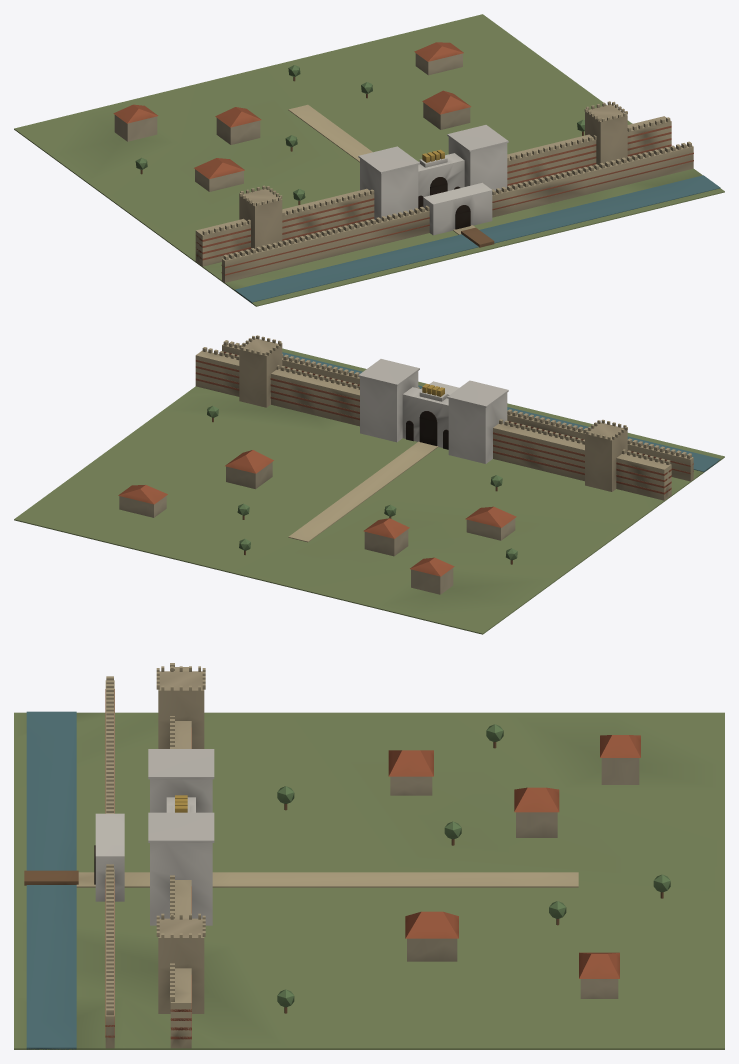
The model's file is golden-gate.glb.
3 renders of one model, top to bottom at view 1: azimuth 30°, elevation 25°; view 2: azimuth 150°, elevation 25°; view 3: azimuth 270°, elevation 25°, orthographic. The views are drawn at different scales.
Parts seen in each view (by area): view 1: p0_walls, p1_golden gate, p2_town; view 2: p0_walls, p1_golden gate, p2_town; view 3: p0_walls, p1_golden gate, p2_town.
Boxes of the visible parts, x1,y1,x2,y2 form: p0_walls: [14, 14, 724, 306]; p1_golden gate: [195, 104, 671, 266]; p2_town: [113, 42, 627, 206]; p0_walls: [14, 340, 724, 634]; p1_golden gate: [195, 338, 671, 500]; p2_town: [118, 335, 627, 594]; p0_walls: [14, 676, 724, 1049]; p1_golden gate: [94, 663, 214, 1048]; p2_town: [156, 666, 670, 1013].
Bounding box in the file's own units: 190 × 23 × 170.
